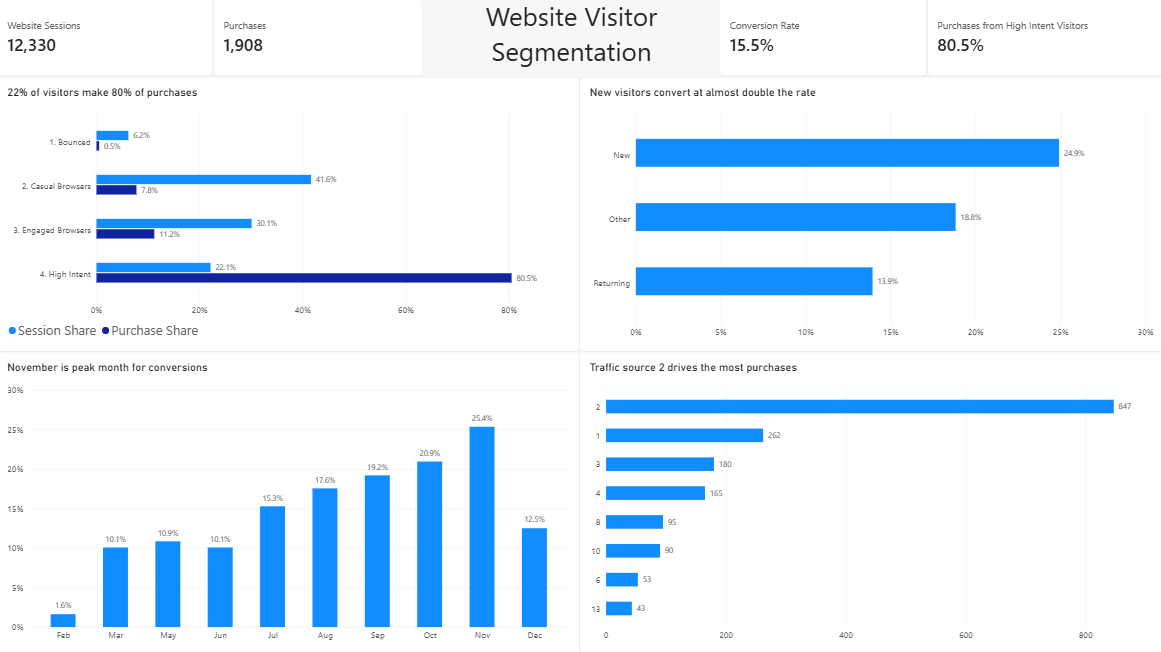

This screenshot's page, from the dashboard's own definition file:
{"tool":"powerbi","page":{"name":"Page 1","canvas":[1920,1080],"ordinal":0},"visuals":[{"type":"cardVisual","fields":{"Data":["sessions_clean.Sessions Card"]},"box":[0,0,356.1,129.7],"z":0},{"type":"cardVisual","fields":{"Data":["sessions_clean.Purchases Card"]},"box":[356.1,0,345.8,129.7],"z":1000},{"type":"cardVisual","fields":{"Data":["sessions_clean.Conversion Rate"]},"box":[1189.7,0,341.7,129.7],"z":2000},{"type":"cardVisual","fields":{"Data":["sessions_clean.High Intent Share"]},"box":[1531.4,0,389,129.7],"z":3000},{"type":"clusteredBarChart","title":"22% of visitors make 80% of purchases","fields":{"Category":["sessions_clean.segment"],"Y":["sessions_clean.Session Share","sessions_clean.Purchase Share"]},"box":[0,129.7,959.2,452.8],"z":4000},{"type":"clusteredColumnChart","title":"November is peak month for conversions","fields":{"Category":["sessions_clean.month"],"Y":["sessions_clean.Conversion Rate"]},"box":[0,582.5,959.2,498.1],"z":5000},{"type":"clusteredBarChart","title":"New visitors convert at almost double the rate","fields":{"Category":["sessions_clean.visitor_type"],"Y":["sessions_clean.Conversion Rate"]},"box":[959.2,129.7,963.3,452.8],"z":6000},{"type":"clusteredBarChart","title":"Traffic source 2 drives the most purchases","fields":{"Category":["sessions_clean.traffic_source"],"Y":["sessions_clean.Total Purchases"]},"box":[959.2,582.5,961.2,498.1],"z":7000},{"type":"textbox","box":[701.9,0,487.8,129.7],"z":7001}]}

Visuals, with their boxes in screenshot pixels (x1, y1, x2, y2), scaled from the page's 1920x1080 canvas onto the 1161x652 screenshot:
cardVisual - sessions_clean.Sessions Card: x1=0, y1=0, x2=215, y2=78
cardVisual - sessions_clean.Purchases Card: x1=215, y1=0, x2=424, y2=78
cardVisual - sessions_clean.Conversion Rate: x1=719, y1=0, x2=926, y2=78
cardVisual - sessions_clean.High Intent Share: x1=926, y1=0, x2=1160, y2=78
"22% of visitors make 80% of purchases" clusteredBarChart: x1=0, y1=78, x2=580, y2=352
"November is peak month for conversions" clusteredColumnChart: x1=0, y1=352, x2=580, y2=651
"New visitors convert at almost double the rate" clusteredBarChart: x1=580, y1=78, x2=1160, y2=352
"Traffic source 2 drives the most purchases" clusteredBarChart: x1=580, y1=352, x2=1160, y2=651
textbox: x1=424, y1=0, x2=719, y2=78
